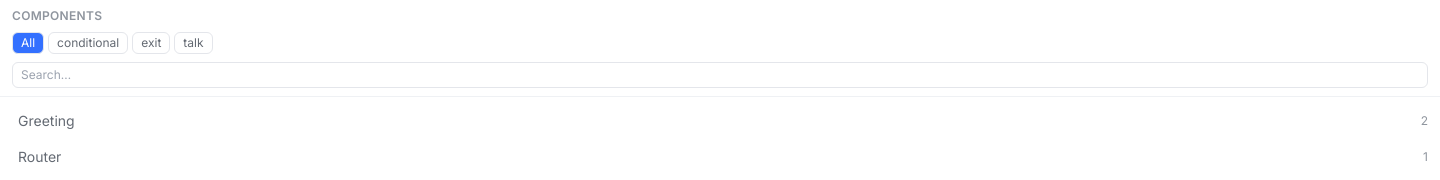
Test: ComponentsRail filters › builds chips from present node types and filters
This screenshot has width=1440, height=180.
Click the button with test id "chip-conditional" at (88, 43), box [48, 32, 128, 54]
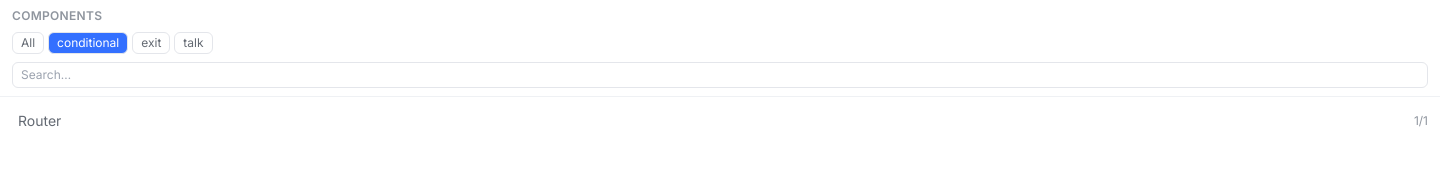
Expected: the text "Router" is shown, [18, 112, 61, 129]
Expected: the button "Greeting" is gone
